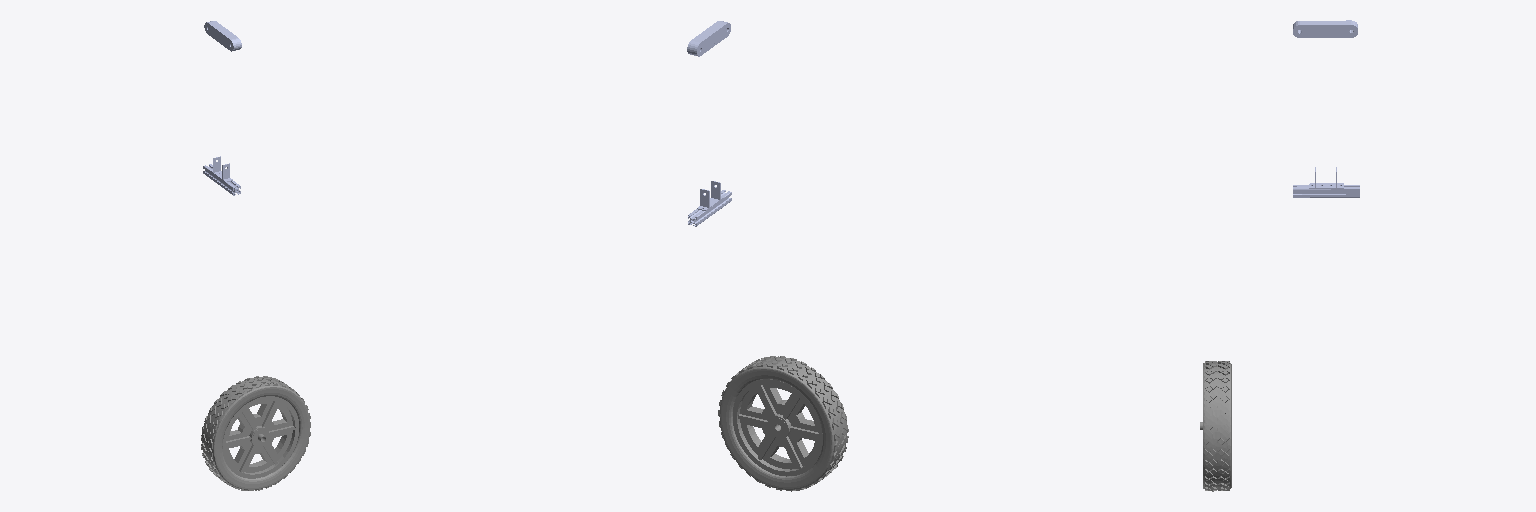
robot.urdf — solo:
<?xml version="1.0"?>
<robot
  name="solo">
  <link
    name="base_link">
    <inertial>
      <origin
        xyz="-0.180519447575436 0.00187198776323094 0.181381766624049"
        rpy="0 0 0" />
      <mass
        value="51.3841528437006" />
      <inertia
        ixx="3.81718679834589"
        ixy="0.0496729532697476"
        ixz="-0.508390617998127"
        iyy="5.59589156103865"
        iyz="-0.0198793511210422"
        izz="4.66966276048357" />
    </inertial>
    <visual>
      <origin
        xyz="0 0 0"
        rpy="0 0 0" />
      <geometry>
        <mesh
          filename="package://robot_description/meshes/base_link.STL" />
      </geometry>
      <material
        name="">
        <color
          rgba="0.96078431372549 0.96078431372549 0.964705882352941 1" />
      </material>
    </visual>
    <collision>
      <origin
        xyz="0 0 0"
        rpy="0 0 0" />
      <geometry>
        <mesh
          filename="package://robot_description/meshes/base_link.STL" />
      </geometry>
    </collision>
  </link>
  <link
    name="left_wheel">
    <inertial>
      <origin
        xyz="2.59694699078494E-09 7.61839784842178E-06 -0.0489938925473666"
        rpy="0 0 0" />
      <mass
        value="6.6345647962633" />
      <inertia
        ixx="0.07897998576173"
        ixy="8.22403524650973E-09"
        ixz="8.56621126378392E-10"
        iyy="0.0789799867511056"
        iyz="2.50152982395949E-06"
        izz="0.152212504564237" />
    </inertial>
    <visual>
      <origin
        xyz="0 0 0"
        rpy="0 0 0" />
      <geometry>
        <mesh
          filename="package://robot_description/meshes/left_wheel.STL" />
      </geometry>
      <material
        name="">
        <color
          rgba="0.627450980392157 0.627450980392157 0.627450980392157 1" />
      </material>
    </visual>
    <collision>
      <origin
        xyz="0 0 0"
        rpy="0 0 0" />
      <geometry>
        <mesh
          filename="package://robot_description/meshes/left_wheel.STL" />
      </geometry>
    </collision>
  </link>
  <joint
    name="base_link_to_left_wheel"
    type="continuous">
    <origin
      xyz="0 0.278 0"
      rpy="1.5708 0 0" />
    <parent
      link="base_link" />
    <child
      link="left_wheel" />
    <axis
      xyz="0 0 -1" />
  </joint>
  <link
    name="right_wheel">
    <inertial>
      <origin
        xyz="-5.28093547780273E-08 -7.61866608244011E-06 0.0492619903302725"
        rpy="0 0 0" />
      <mass
        value="6.63456472584469" />
      <inertia
        ixx="0.0789795305433076"
        ixy="8.14460439901073E-09"
        ixz="-1.74563458537794E-08"
        iyy="0.07897953111728"
        iyz="-2.51453323816836E-06"
        izz="0.152212504091262" />
    </inertial>
    <visual>
      <origin
        xyz="0 0 0"
        rpy="0 0 0" />
      <geometry>
        <mesh
          filename="package://robot_description/meshes/right_wheel.STL" />
      </geometry>
      <material
        name="">
        <color
          rgba="0.627450980392157 0.627450980392157 0.627450980392157 1" />
      </material>
    </visual>
    <collision>
      <origin
        xyz="0 0 0"
        rpy="0 0 0" />
      <geometry>
        <mesh
          filename="package://robot_description/meshes/right_wheel.STL" />
      </geometry>
    </collision>
  </link>
  <joint
    name="base_link_to_right_wheel"
    type="continuous">
    <origin
      xyz="0 -0.278 0"
      rpy="-1.5708 0 3.1416" />
    <parent
      link="base_link" />
    <child
      link="right_wheel" />
    <axis
      xyz="0 0 -1" />
  </joint>
  <link
    name="caster_part">
    <inertial>
      <origin
        xyz="0.0005556 0.092016 0.0043716"
        rpy="0 0 0" />
      <mass
        value="0.80166" />
      <inertia
        ixx="0.001908"
        ixy="-3.2888E-06"
        ixz="3.0127E-08"
        iyy="0.0015124"
        iyz="-0.00044014"
        izz="0.0015613" />
    </inertial>
    <visual>
      <origin
        xyz="0 0 0"
        rpy="0 0 0" />
      <geometry>
        <mesh
          filename="package://robot_description/meshes/caster_part.STL" />
      </geometry>
      <material
        name="">
        <color
          rgba="0.62745 0.62745 0.62745 1" />
      </material>
    </visual>
    <collision>
      <origin
        xyz="0 0 0"
        rpy="0 0 0" />
      <geometry>
        <mesh
          filename="package://robot_description/meshes/caster_part.STL" />
      </geometry>
    </collision>
  </link>
  <joint
    name="base_link_to_caster_part"
    type="continuous">
    <origin
      xyz="-0.696 -0.002 0.045"
      rpy="-1.5708 4.9021E-14 1.9615" />
    <parent
      link="base_link" />
    <child
      link="caster_part" />
    <axis
      xyz="0 -1 0" />
  </joint>
  
  <link
    name="caster_wheel">
    <inertial>
      <origin
        xyz="-5.107E-07 8.3995E-08 9.5441E-07"
        rpy="0 0 0" />
      <mass
        value="1.6238" />
      <inertia
        ixx="0.003191"
        ixy="-4.3713E-08"
        ixz="-1.6588E-08"
        iyy="0.0031917"
        iyz="4.1605E-09"
        izz="0.0051702" />
    </inertial>
    <visual>
      <origin
        xyz="0 0 0"
        rpy="0 0 0" />
      <geometry>
        <mesh
          filename="package://robot_description/meshes/caster_wheel.STL" />
      </geometry>
      <material
        name="">
        <color
          rgba="0.79216 0.81961 0.93333 1" />
      </material>
    </visual>
    <collision>
      <origin
        xyz="0 0 0"
        rpy="0 0 0" />
      <geometry>
        <mesh
          filename="package://robot_description/meshes/caster_wheel.STL" />
      </geometry>
    </collision>
  </link>
  <joint
    name="caster_wheel_to_caster_part"
    type="continuous">
    <origin
      xyz="0.0005 0.14403 0.053033"
      rpy="1.5708 1.2539 -1.5708" />
    <parent
      link="caster_part" />
    <child
      link="caster_wheel" />
    <axis
      xyz="0 0 1" />
  </joint>
  <link
    name="zed2i">
    <inertial>
      <origin
        xyz="0.0525000000000005 0.0497465331697187 0.0151477976012486"
        rpy="0 0 0" />
      <mass
        value="0.22167490681561" />
      <inertia
        ixx="0.00016343801956135"
        ixy="-1.07843176053233E-18"
        ixz="-4.20390247899892E-20"
        iyy="0.000165336577087661"
        iyz="-6.19672147423513E-08"
        izz="0.000235849488600523" />
    </inertial>
    <visual>
      <origin
        xyz="0 0 0"
        rpy="0 0 0" />
      <geometry>
        <mesh
          filename="package://robot_description/meshes/zed2i.STL" />
      </geometry>
      <material
        name="">
        <color
          rgba="0.792156862745098 0.819607843137255 0.933333333333333 1" />
      </material>
    </visual>
    <collision>
      <origin
        xyz="0 0 0"
        rpy="0 0 0" />
      <geometry>
        <mesh
          filename="package://robot_description/meshes/zed2i.STL" />
      </geometry>
    </collision>
  </link>
  <joint
    name="base_link_to_zed2i"
    type="fixed">
    <origin
      xyz="0.043 -0.057194 1.2351"
      rpy="1.5708 -0.003917 1.5708" />
    <parent
      link="base_link" />
    <child
      link="zed2i" />
    <axis
      xyz="0 0 0" />
  </joint>
  <link
    name="zed2i_cam">
    <inertial>
      <origin
        xyz="0.00314056704758986 5.25003776541411E-05 0.0160142317618688"
        rpy="0 0 0" />
      <mass
        value="0.726801281977045" />
      <inertia
        ixx="0.000167642379404196"
        ixy="3.90829276125947E-13"
        ixz="6.71902781368629E-14"
        iyy="0.00212571121934448"
        iyz="1.35162805187916E-07"
        izz="0.00216911264088625" />
    </inertial>
    <visual>
      <origin
        xyz="0 0 0"
        rpy="0 0 0" />
      <geometry>
        <mesh
          filename="package://robot_description/meshes/zed_cam.STL" />
      </geometry>
      <material
        name="">
        <color
          rgba="0.792156862745098 0.819607843137255 0.933333333333333 1" />
      </material>
    </visual>
    <collision>
      <origin
        xyz="0 0 0"
        rpy="0 0 0" />
      <geometry>
        <mesh
          filename="package://robot_description/meshes/zed_cam.STL" />
      </geometry>
    </collision>
  </link>
  <joint
    name="zed2i_to_zed_cam"
    type="fixed">
    <origin
      xyz="0.049359 0.093702 -0.00044896"
      rpy="0.010887 -7.5752E-17 1.4069E-15" />
    <parent
      link="zed2i" />
    <child
      link="zed2i_cam" />
    <axis
      xyz="0 0 0" />
  </joint>
  <link
    name="zed_slot">
    <inertial>
      <origin
        xyz="0.0525 0.022410175834066 0.0134463330565265"
        rpy="0 0 0" />
      <mass
        value="0.247827196256176" />
      <inertia
        ixx="9.37210893499663E-05"
        ixy="-1.64133809354202E-18"
        ixz="1.12592516258268E-19"
        iyy="0.000718038712621709"
        iyz="-2.53684820463082E-06"
        izz="0.000768774168537528" />
    </inertial>
    <visual>
      <origin
        xyz="0 0 0"
        rpy="0 0 0" />
      <geometry>
        <mesh
          filename="package://robot_description/meshes/zed_slot.STL" />
      </geometry>
      <material
        name="">
        <color
          rgba="0.792156862745098 0.819607843137255 0.933333333333333 1" />
      </material>
    </visual>
    <collision>
      <origin
        xyz="0 0 0"
        rpy="0 0 0" />
      <geometry>
        <mesh
          filename="package://robot_description/meshes/zed_slot.STL" />
      </geometry>
    </collision>
  </link>
  <joint
    name="base_link_to_zed_slot"
    type="fixed">
    <origin
      xyz="0.069 0.049588 0.78042"
      rpy="1.5708 0.003917 -1.5708" />
    <parent
      link="base_link" />
    <child
      link="zed_slot" />
    <axis
      xyz="0 1 0" />
  </joint>
</robot>

--- What the picture shows (computed from the rendered views, not written in the file) ---
Views: 3 orthographic renders of the robot side by side, from view 1: azimuth 30°, elevation 25°; view 2: azimuth 150°, elevation 25°; view 3: azimuth 270°, elevation 25°.
Model solo with 8 links and 7 joints (4 continuous, 3 fixed), rooted at base_link, posed every joint at zero.
Links seen in each view (by area): view 1: right_wheel, zed_slot, zed2i_cam; view 2: right_wheel, zed_slot, zed2i_cam; view 3: right_wheel, zed2i_cam, zed_slot.
Link boxes in pixels (x1,y1,x2,y2): right_wheel: (201, 376, 310, 490); zed_slot: (203, 156, 240, 195); zed2i_cam: (204, 21, 241, 51); right_wheel: (718, 356, 848, 491); zed_slot: (688, 181, 731, 226); zed2i_cam: (687, 21, 730, 56); right_wheel: (1200, 361, 1231, 491); zed2i_cam: (1293, 20, 1357, 37); zed_slot: (1293, 167, 1359, 197).
Bounding box of the posed robot: 0.3894 × 0.4751 × 1.54 m (x, y, z).
Meshes: 8 distinct files referenced, 3 mesh visuals loaded (3 binary STL); not drawn: 5 (reference not matched to a file when rendering).